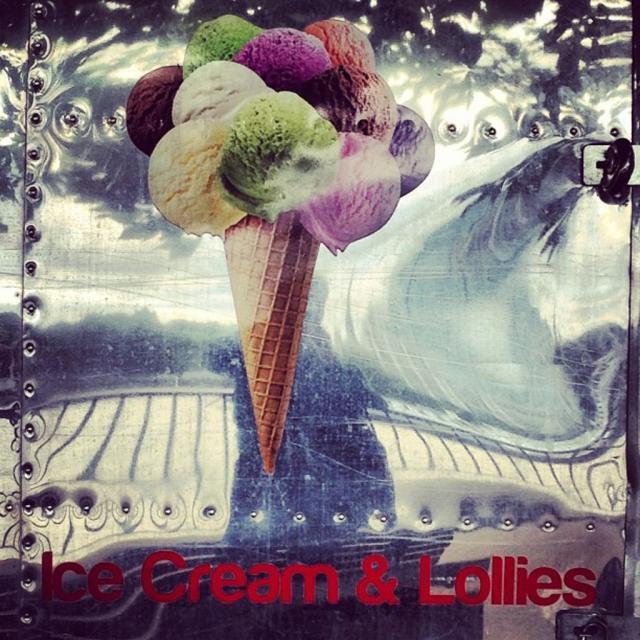Ice cream: (169, 33, 413, 404)
